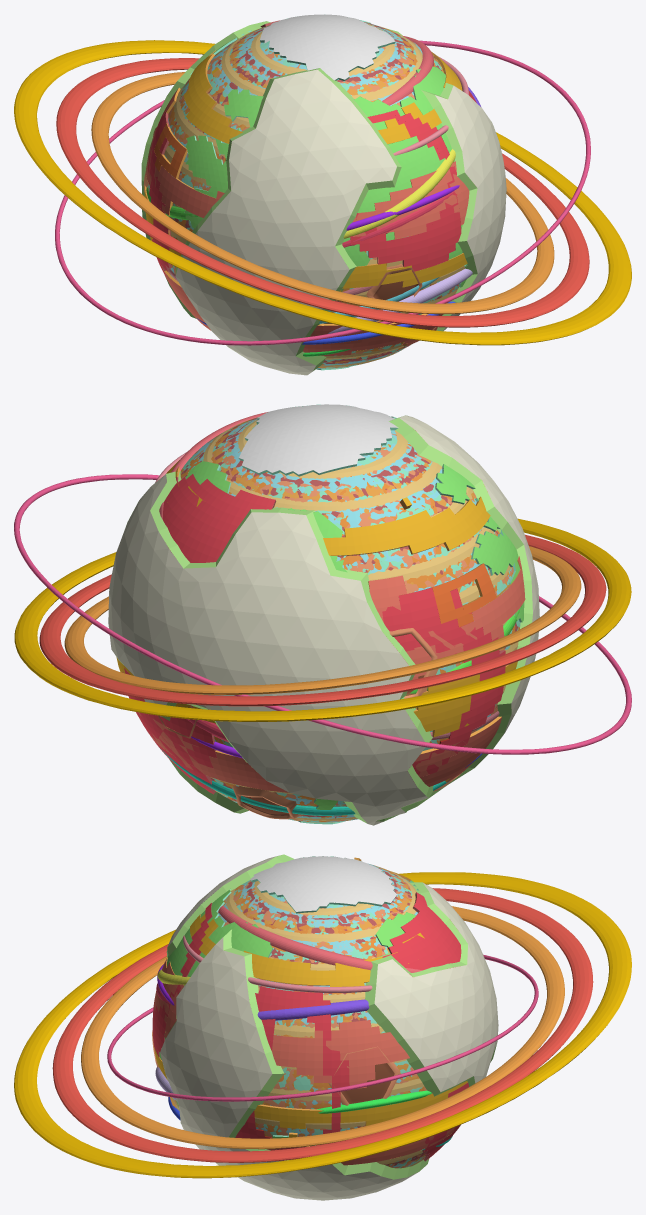
The model's file is allPlanets2.glb.
3 renders of one model, top to bottom at view 1: azimuth 30°, elevation 25°; view 2: azimuth 150°, elevation 25°; view 3: azimuth 270°, elevation 25°, orthographic. The views are drawn at different scales.
Parts seen in each view (by area): view 1: Icosphere, Saturn, Earth, Jupiter, Uranus, Mars, Neptune, Mercury, Venus; view 2: Icosphere, Saturn, Jupiter, Earth, Mars, Uranus, Mercury, Neptune; view 3: Saturn, Icosphere, Jupiter, Earth, Mars, Uranus, Mercury, Venus, Neptune.
Boxes of the visible parts, x1,y1,x2,y2 form: Icosphere: [141, 21, 506, 375]; Saturn: [14, 23, 631, 368]; Earth: [147, 14, 467, 370]; Jupiter: [144, 26, 469, 361]; Uranus: [55, 23, 590, 368]; Mars: [147, 20, 476, 365]; Neptune: [146, 29, 472, 365]; Mercury: [143, 22, 458, 367]; Venus: [168, 32, 481, 356]; Icosphere: [108, 415, 539, 825]; Saturn: [14, 419, 631, 822]; Jupiter: [116, 417, 525, 819]; Earth: [182, 404, 524, 824]; Mars: [122, 418, 518, 819]; Uranus: [14, 417, 631, 822]; Mercury: [158, 419, 513, 822]; Neptune: [159, 412, 522, 815]; Saturn: [14, 867, 631, 1178]; Icosphere: [160, 854, 498, 1200]; Jupiter: [154, 857, 469, 1167]; Earth: [158, 856, 424, 1168]; Mars: [152, 868, 468, 1167]; Uranus: [107, 863, 538, 1167]; Mercury: [152, 866, 426, 1168]; Venus: [157, 892, 431, 1135]; Neptune: [155, 898, 452, 1150].
Size of the model in its own units: 15.73 by 10.15 by 18.42.
